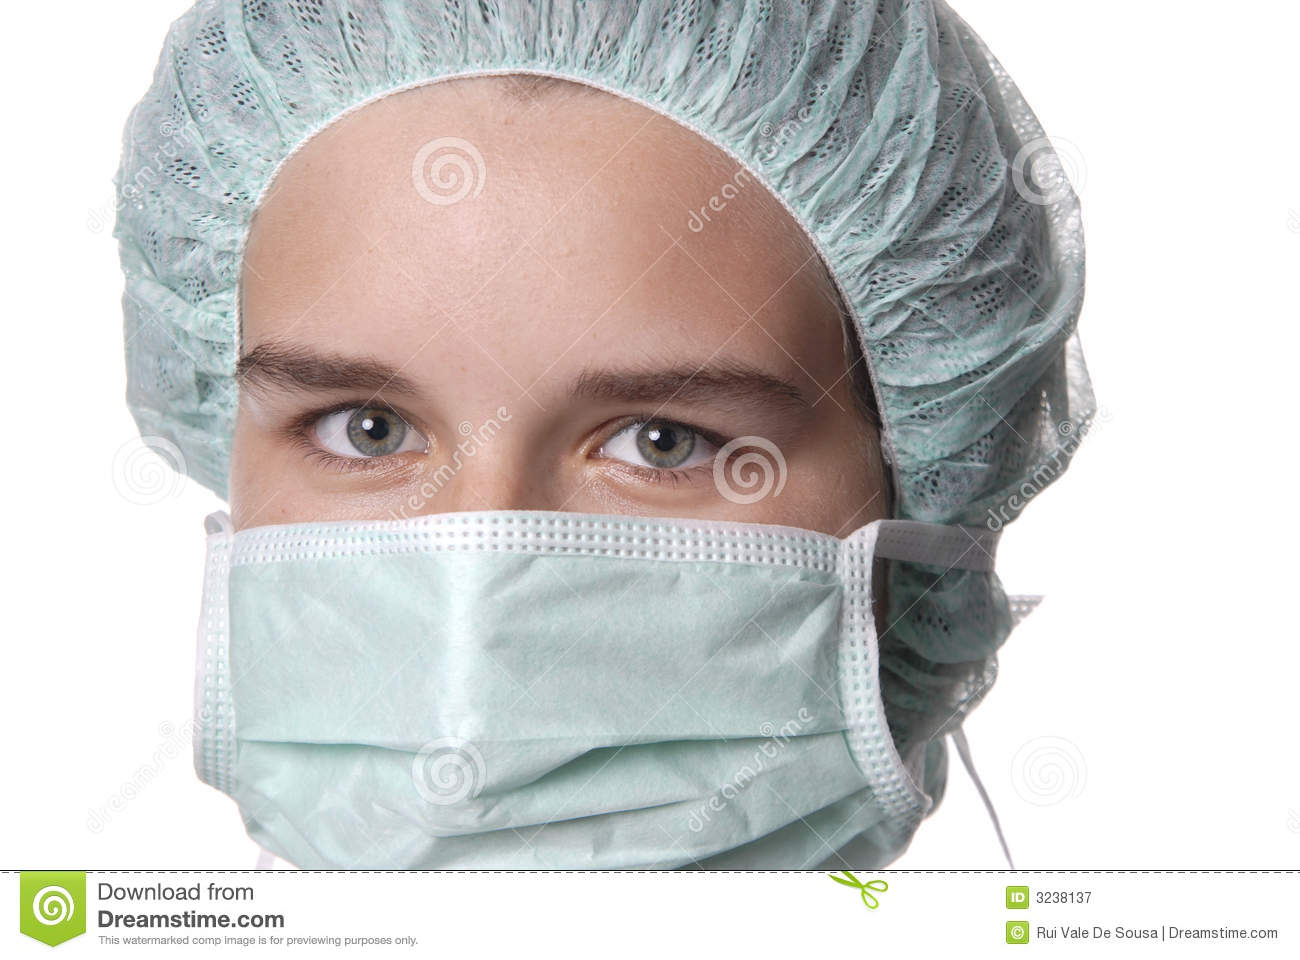mask: (197, 512, 937, 872)
